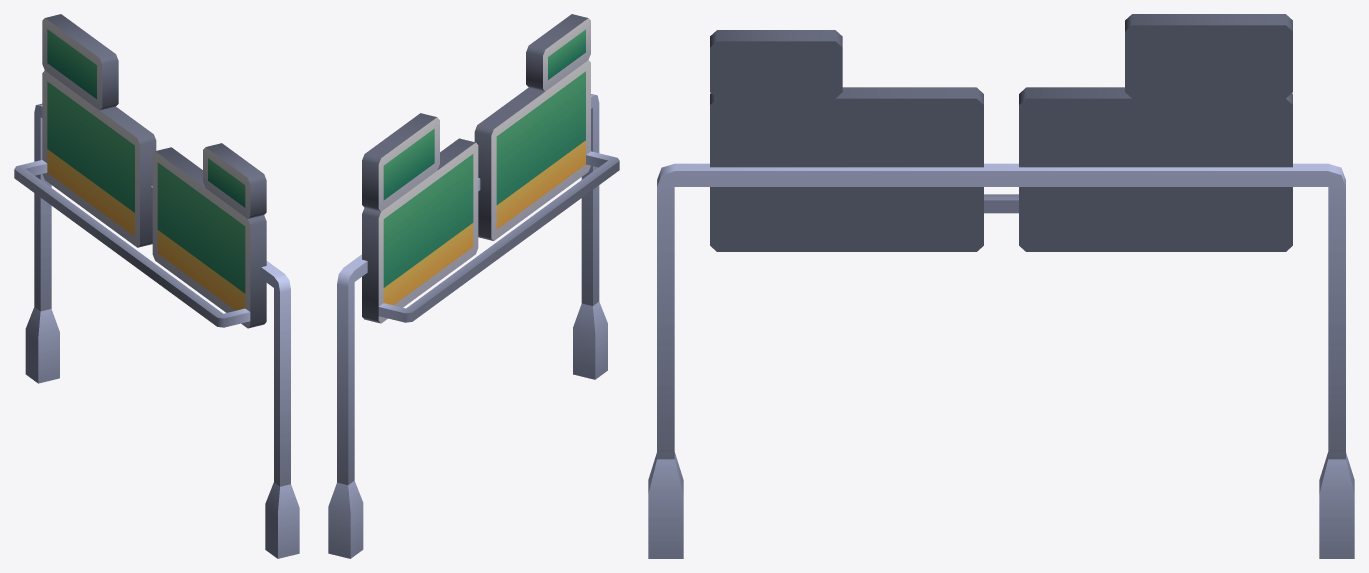
Rendered from sign-highway-detailed.fbx.
3 views of the same model, side by side, from view 1: azimuth 30°, elevation 25°; view 2: azimuth 150°, elevation 25°; view 3: azimuth 270°, elevation 25° (orthographic). The views are drawn at different scales.
Parts seen in each view (by area): view 1: sign-highway-detailed; view 2: sign-highway-detailed; view 3: sign-highway-detailed.
Boxes of the visible parts, <box> form: sign-highway-detailed: <box>14,14,299,558</box>; sign-highway-detailed: <box>328,14,619,558</box>; sign-highway-detailed: <box>648,14,1354,558</box>.
Bounding box in the file's own units: 13.24 × 82.21 × 100.
